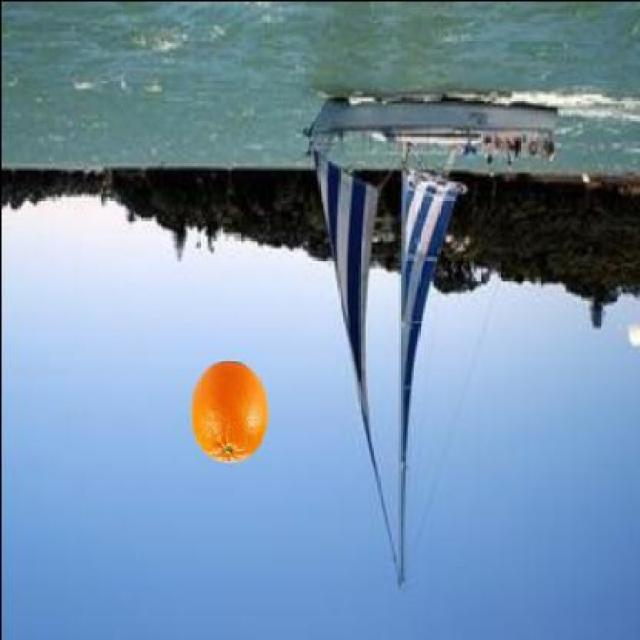Orange: (189, 357, 269, 463)
